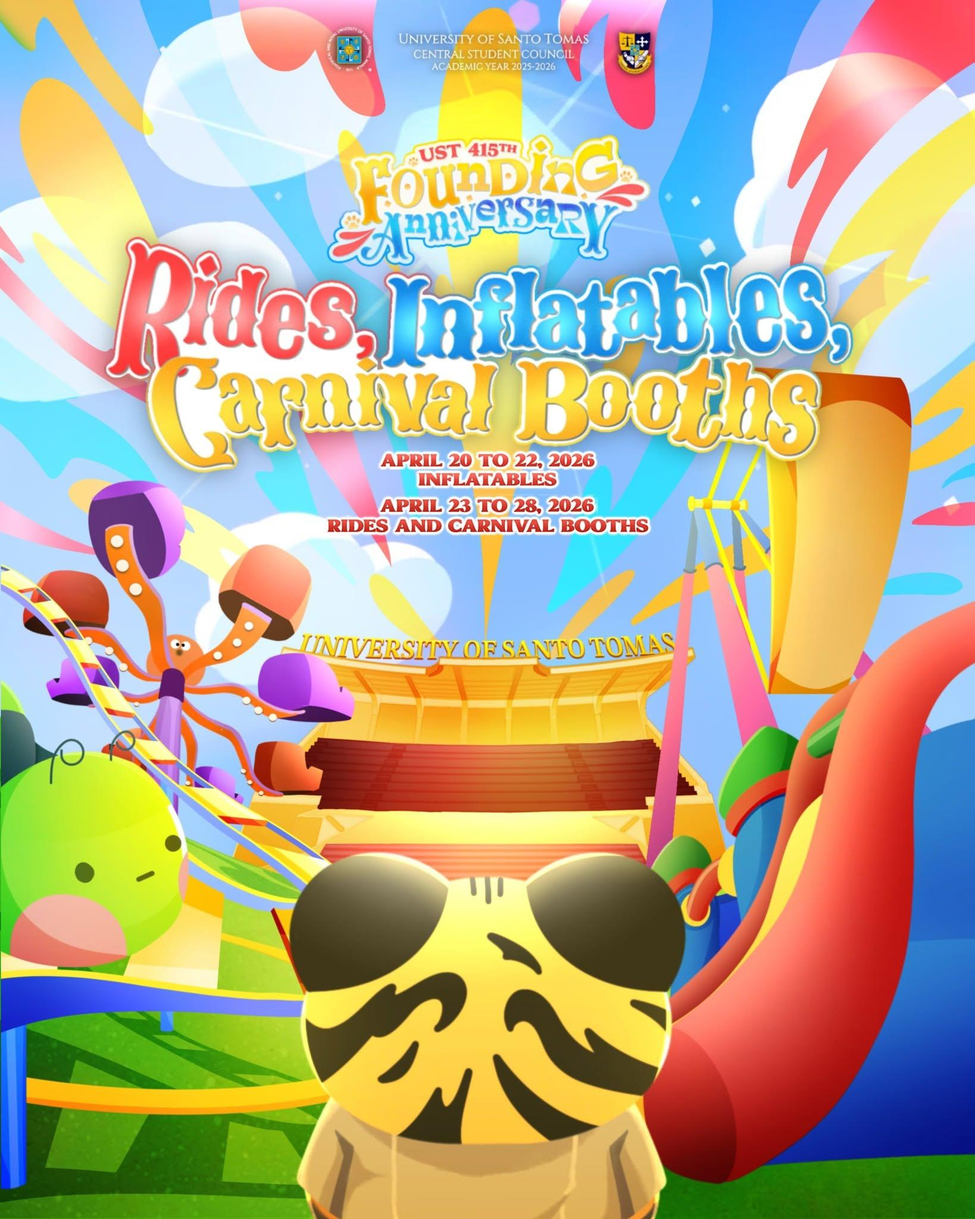embellishment: (1, 550, 700, 1218), (0, 661, 198, 976)
logo: (605, 19, 673, 83), (320, 18, 380, 77)
text: (95, 229, 866, 546), (325, 120, 655, 279), (291, 624, 685, 670), (388, 21, 600, 79)
